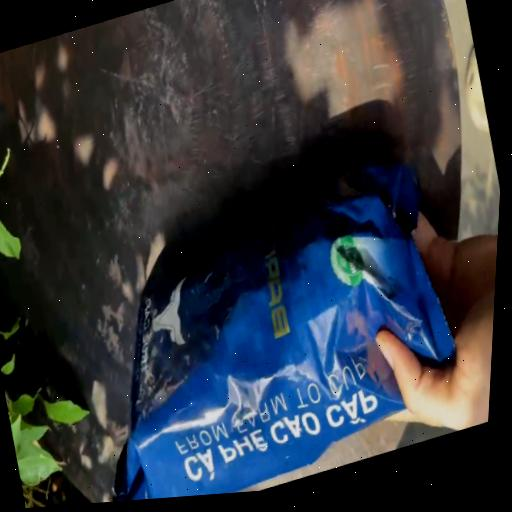cafe_hat: (113, 162, 454, 501)
